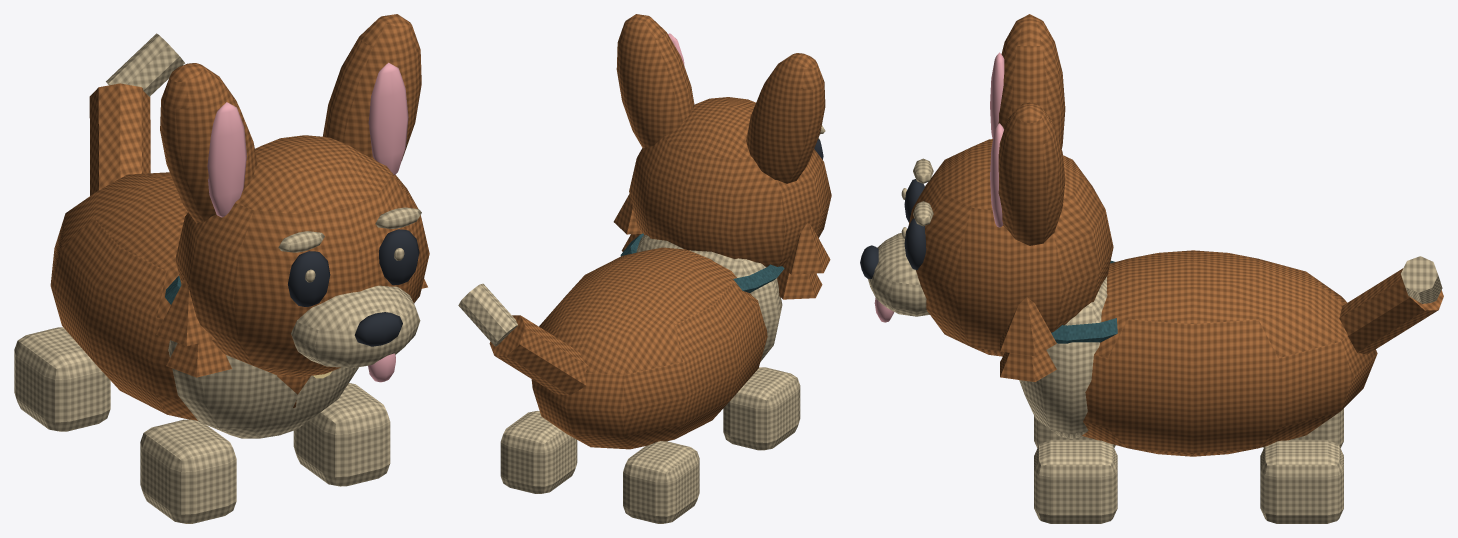
The model's file is pet_dog_b.glb.
The picture shows the model from 3 angles, left to right: view 1: azimuth 30°, elevation 25°; view 2: azimuth 150°, elevation 25°; view 3: azimuth 270°, elevation 25°; orthographic projection. The views are drawn at different scales.
Parts seen in each view (by area): view 1: head, body, chest, paw, paw.001, ear, ear.001, paw.002, muzzle, tail, inner_ear, inner_ear.001 (+9 smaller); view 2: body, head, ear, ear.001, paw.001, paw, paw.003, tail, chest, tail_tip, cheek_tuft.001, cheek_tuft (+2 smaller); view 3: body, head, ear.001, paw.002, paw.003, chest, ear, tail, muzzle, cheek_tuft.003, tail_tip, cheek_tuft.002 (+5 smaller).
Part boxes in pixels (bbox=[...]): head: bbox=[175, 135, 429, 377]; body: bbox=[50, 172, 310, 420]; chest: bbox=[168, 340, 358, 438]; paw: bbox=[140, 419, 236, 523]; paw.001: bbox=[14, 327, 110, 431]; ear: bbox=[160, 63, 257, 223]; ear.001: bbox=[323, 14, 421, 160]; paw.002: bbox=[293, 383, 390, 486]; muzzle: bbox=[291, 285, 420, 367]; tail: bbox=[89, 83, 150, 195]; inner_ear: bbox=[207, 102, 246, 217]; inner_ear.001: bbox=[368, 62, 408, 175]; body: bbox=[531, 247, 767, 449]; head: bbox=[629, 97, 831, 267]; ear: bbox=[746, 53, 825, 183]; ear.001: bbox=[616, 14, 694, 148]; paw.001: bbox=[623, 441, 699, 523]; paw: bbox=[723, 367, 800, 450]; paw.003: bbox=[500, 411, 577, 493]; tail: bbox=[489, 315, 587, 395]; chest: bbox=[636, 235, 782, 361]; tail_tip: bbox=[458, 283, 517, 346]; cheek_tuft.001: bbox=[782, 223, 830, 274]; cheek_tuft: bbox=[777, 268, 822, 299]; body: bbox=[1082, 250, 1377, 456]; head: bbox=[908, 139, 1113, 356]; ear.001: bbox=[998, 102, 1065, 245]; paw.002: bbox=[1034, 440, 1117, 523]; paw.003: bbox=[1260, 440, 1343, 523]; chest: bbox=[1019, 276, 1107, 438]; ear: bbox=[998, 14, 1065, 148]; tail: bbox=[1339, 268, 1443, 354]; muzzle: bbox=[868, 233, 929, 316]; cheek_tuft.003: bbox=[1000, 297, 1056, 356]; tail_tip: bbox=[1401, 256, 1442, 303]; cheek_tuft.002: bbox=[1000, 350, 1056, 381].
Bounding box in the file's own units: 0.6527 × 1.11 × 1.39.
6 materials, 3 textured.
